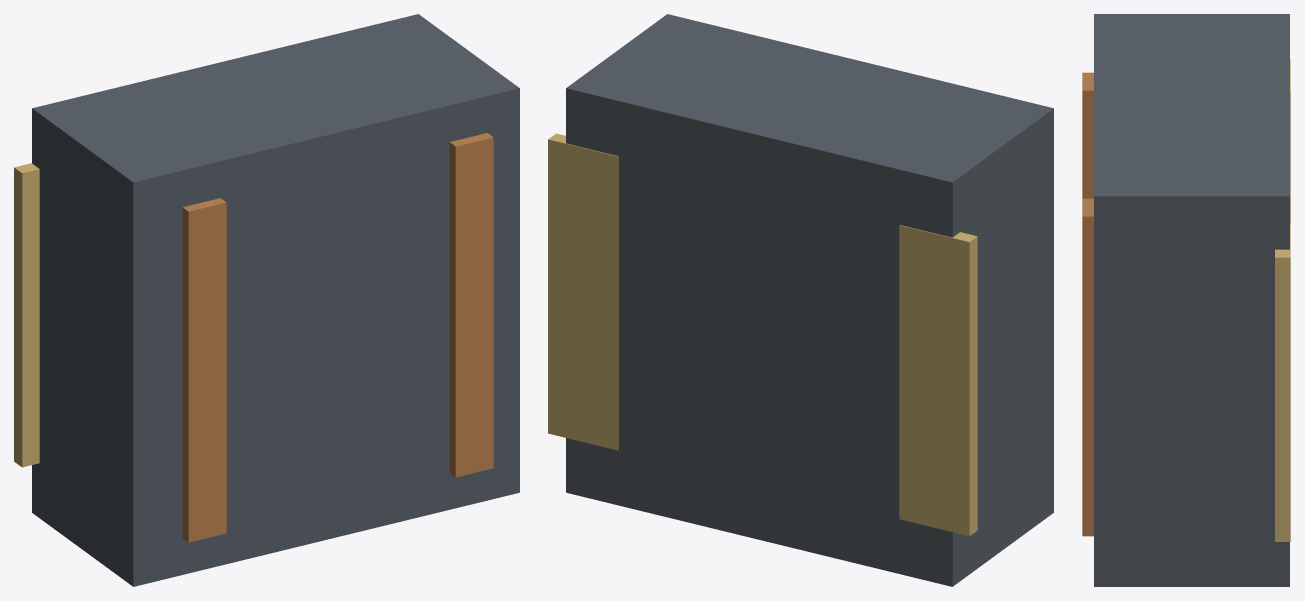
File: 080_L106_INDUCTOR4.glb
The picture shows the model from 3 angles, left to right: view 1: azimuth 30°, elevation 25°; view 2: azimuth 150°, elevation 25°; view 3: azimuth 270°, elevation 25°; orthographic projection. The views are drawn at different scales.
Parts seen in each view (by area): view 1: 000_DARK_METAL, 002_COPPER, 001_COPPER, 011_GOLD, 006_COPPER, 007_COPPER, 005_COPPER, 008_COPPER, 009_COPPER, 010_COPPER, 004_COPPER, 003_COPPER; view 2: 000_DARK_METAL, 011_GOLD, 012_GOLD; view 3: 000_DARK_METAL, 012_GOLD, 010_COPPER, 009_COPPER.
Part boxes in pixels (<box>): 000_DARK_METAL: <box>32,14,519,586</box>; 002_COPPER: <box>449,138,476,477</box>; 001_COPPER: <box>182,203,209,542</box>; 011_GOLD: <box>14,163,39,467</box>; 006_COPPER: <box>461,135,485,471</box>; 007_COPPER: <box>201,199,222,539</box>; 005_COPPER: <box>193,200,218,537</box>; 008_COPPER: <box>467,134,489,470</box>; 009_COPPER: <box>203,198,226,534</box>; 010_COPPER: <box>472,133,493,469</box>; 004_COPPER: <box>460,136,480,464</box>; 003_COPPER: <box>188,201,213,439</box>; 000_DARK_METAL: <box>566,14,1053,586</box>; 011_GOLD: <box>899,225,977,536</box>; 012_GOLD: <box>548,133,618,450</box>; 000_DARK_METAL: <box>1094,14,1289,586</box>; 012_GOLD: <box>1275,224,1290,541</box>; 010_COPPER: <box>1082,207,1093,536</box>; 009_COPPER: <box>1082,82,1093,198</box>.
Size of the model in its own units: 0.012 by 0.011 by 0.00532.
